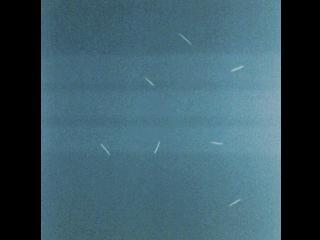scratch: (225, 195, 245, 210), (176, 31, 192, 46), (229, 63, 247, 75), (97, 142, 110, 158), (150, 139, 161, 156), (142, 75, 156, 87), (208, 140, 224, 146)
